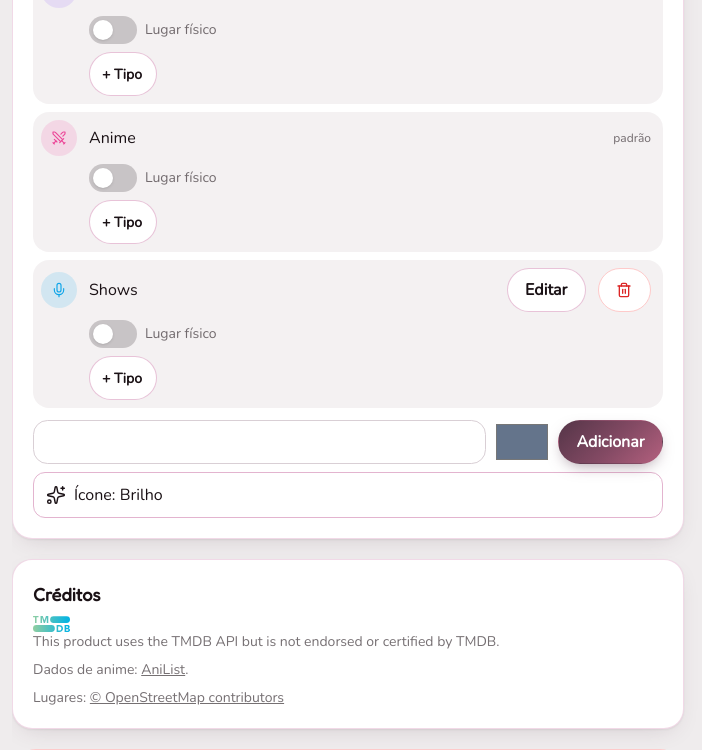
it: explains a duplicated category name
(page scrolled)
Type "Viagem" into the field named "Nome da categoria" at [259, 442], box 33,420 -> 486,464
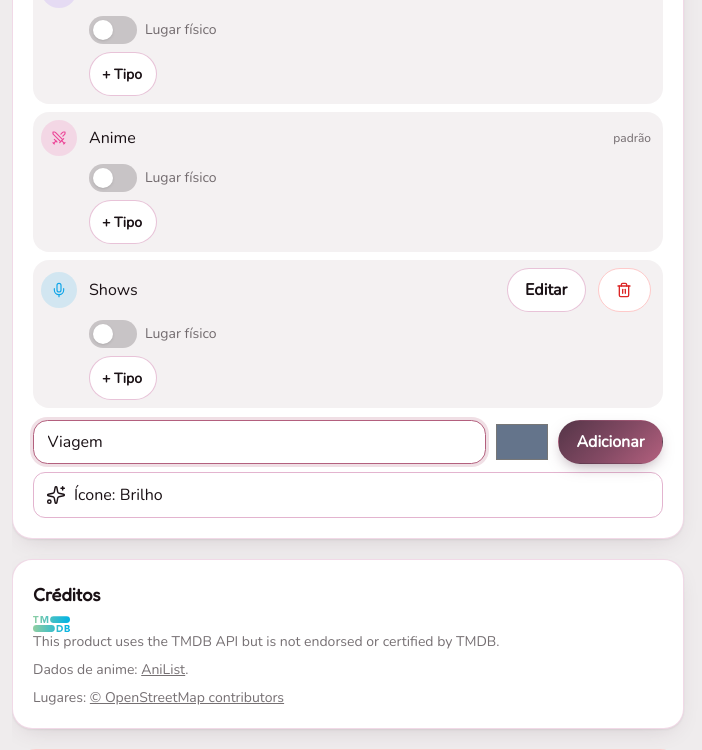
Click the button "Adicionar" at [610, 442], box 558,420 -> 663,464
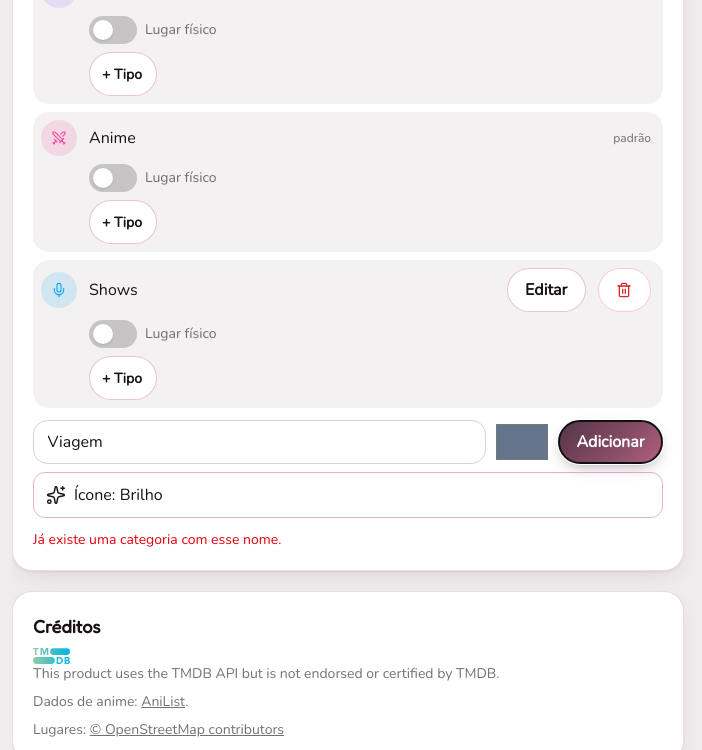
Expected: the message reads "Já existe uma categoria com esse nome.", 33,530 -> 282,549
